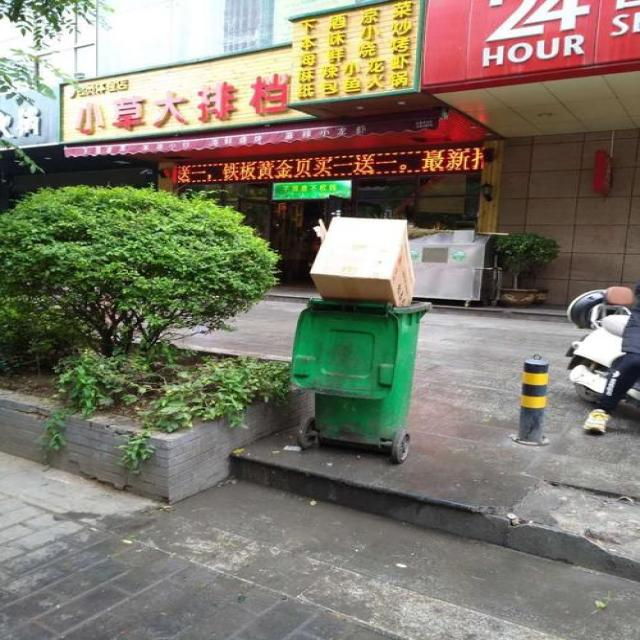overflow: (291, 215, 430, 444)
